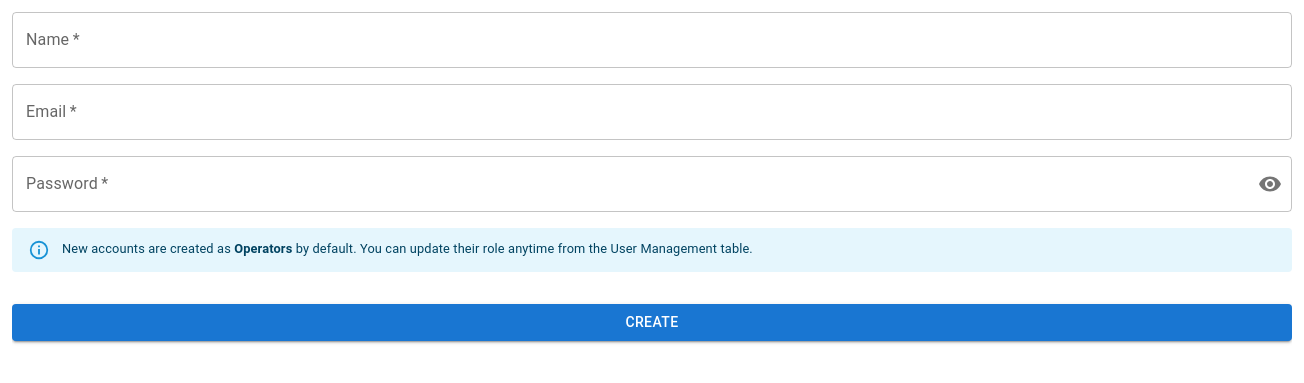
Test: CreateUserForm › rejects a too-short password
Type "Jane Doe" into the field labelled "Name *" at [652, 40], box [12,12,1292,68]
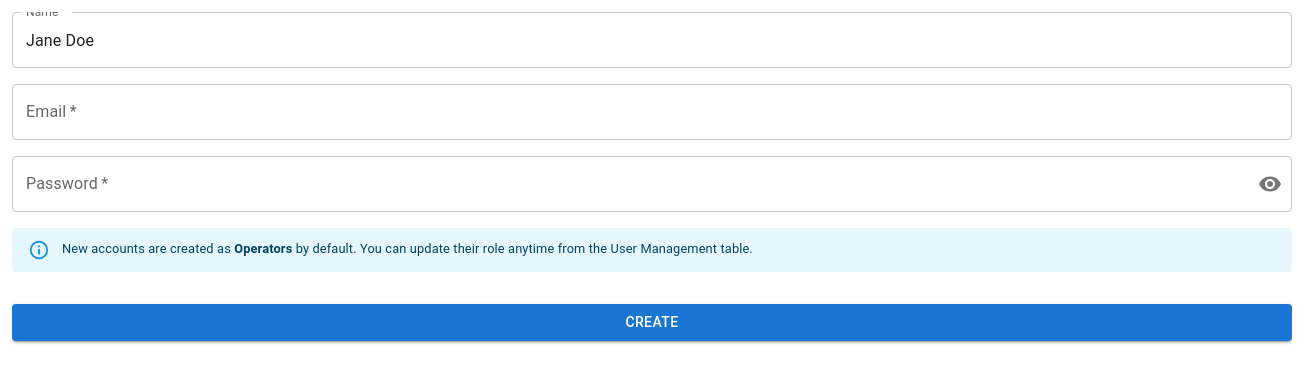
Type "jane@acme.com" into the field labelled "Email *" at [652, 112], box [12,84,1292,140]
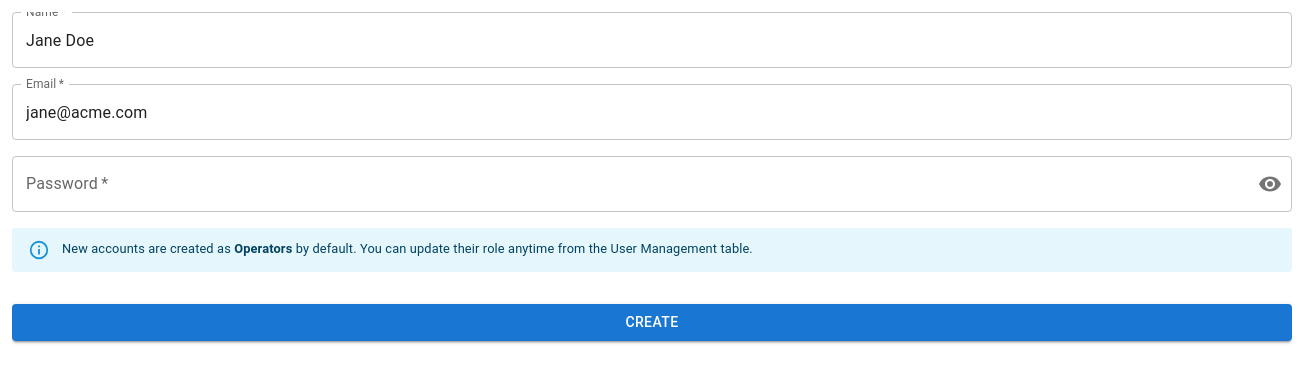
Type "123" into the password field labelled "Password *" at [627, 184], box [12,156,1242,212]
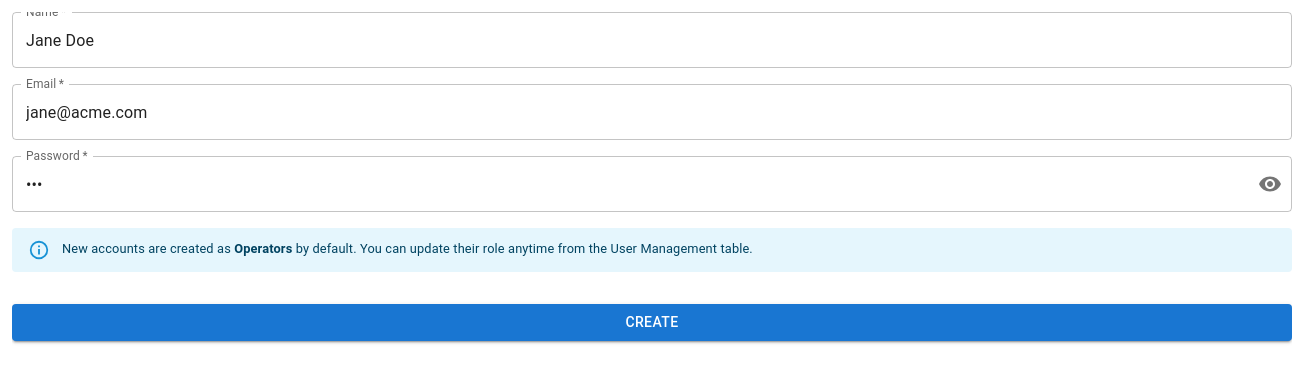
Submit the form
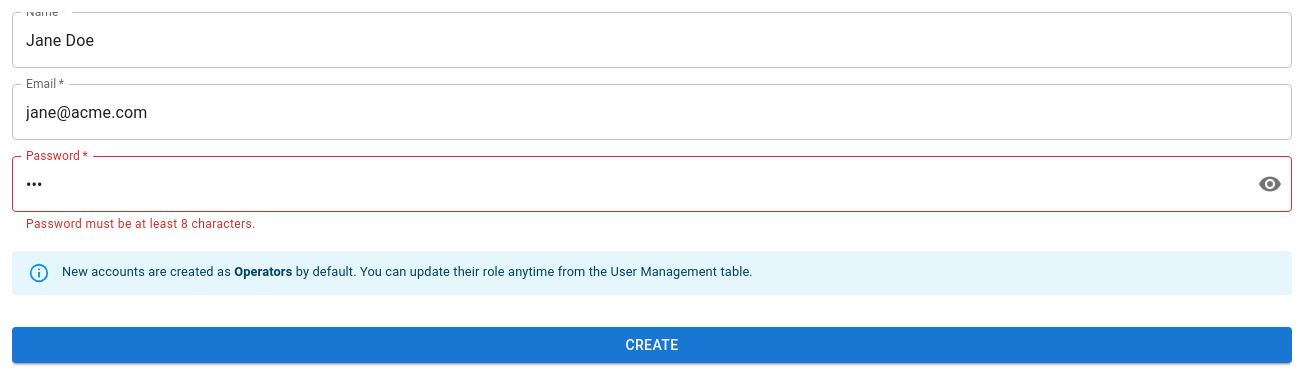
Now the text "Password must be at least 8 characters." is shown, box [26,217,256,231]
